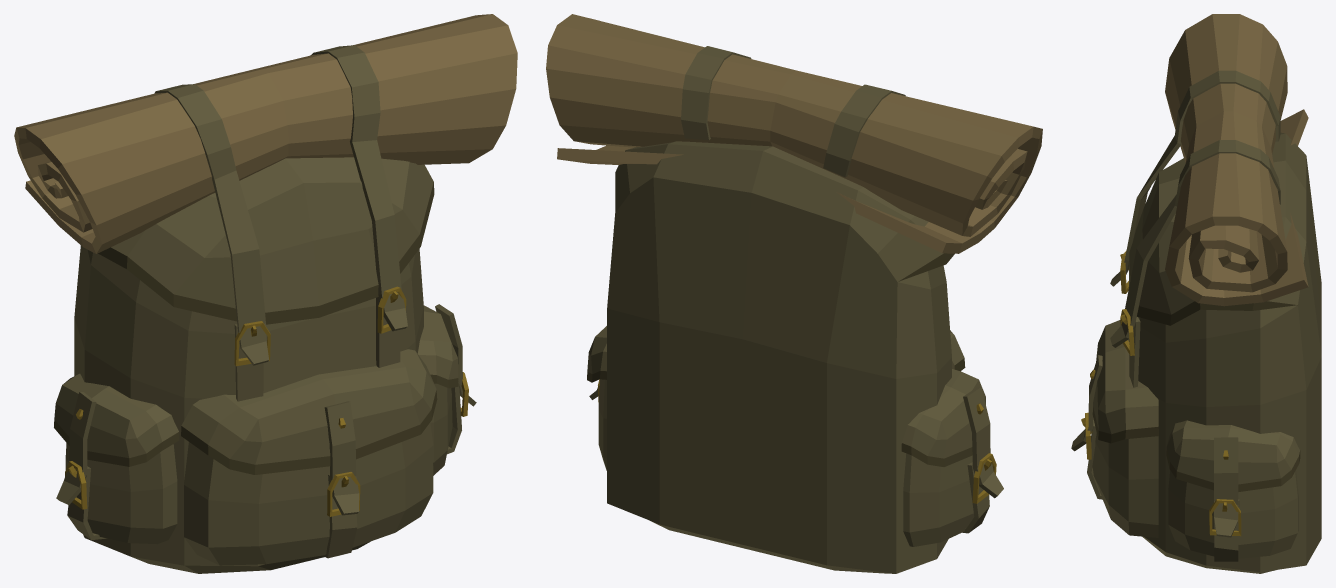
Rendered from Backpack.glb.
3 views of the same model, side by side, from view 1: azimuth 30°, elevation 25°; view 2: azimuth 150°, elevation 25°; view 3: azimuth 270°, elevation 25° (orthographic). The views are drawn at different scales.
Visible parts, largest first — view 1: Backpack; view 2: Backpack; view 3: Backpack.
Part boxes in pixels (left/top/right/bottom): Backpack: left=14, top=14, right=517, bottom=573; Backpack: left=546, top=14, right=1042, bottom=573; Backpack: left=1071, top=14, right=1321, bottom=573.
Size of the model in its own units: 3.34 by 3.12 by 1.75.
